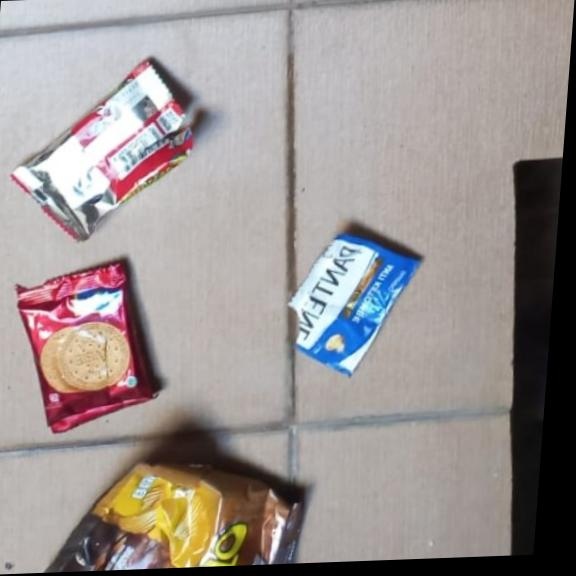Plastik: (3, 57, 199, 243), (42, 453, 304, 573), (4, 258, 168, 434), (279, 228, 426, 379)
